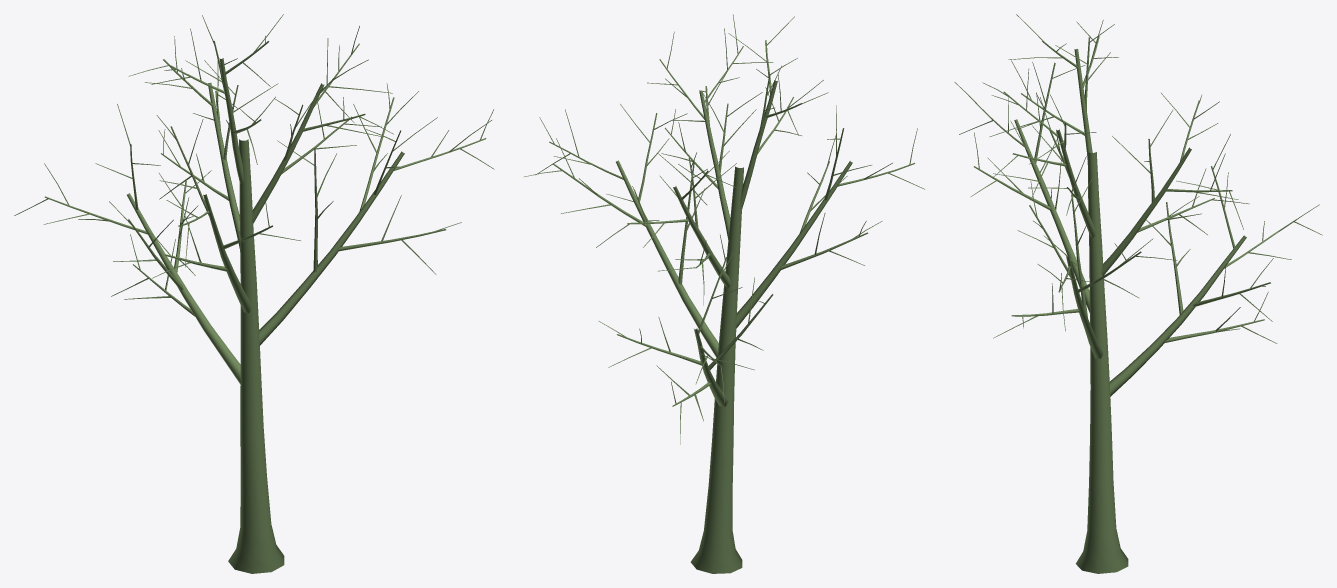
The model's file is tree_s0_lod0.glb.
The picture shows the model from 3 angles, left to right: view 1: azimuth 30°, elevation 25°; view 2: azimuth 150°, elevation 25°; view 3: azimuth 270°, elevation 25°; orthographic projection. The views are drawn at different scales.
Size of the model in its own units: 7.64 by 11.35 by 7.12.
